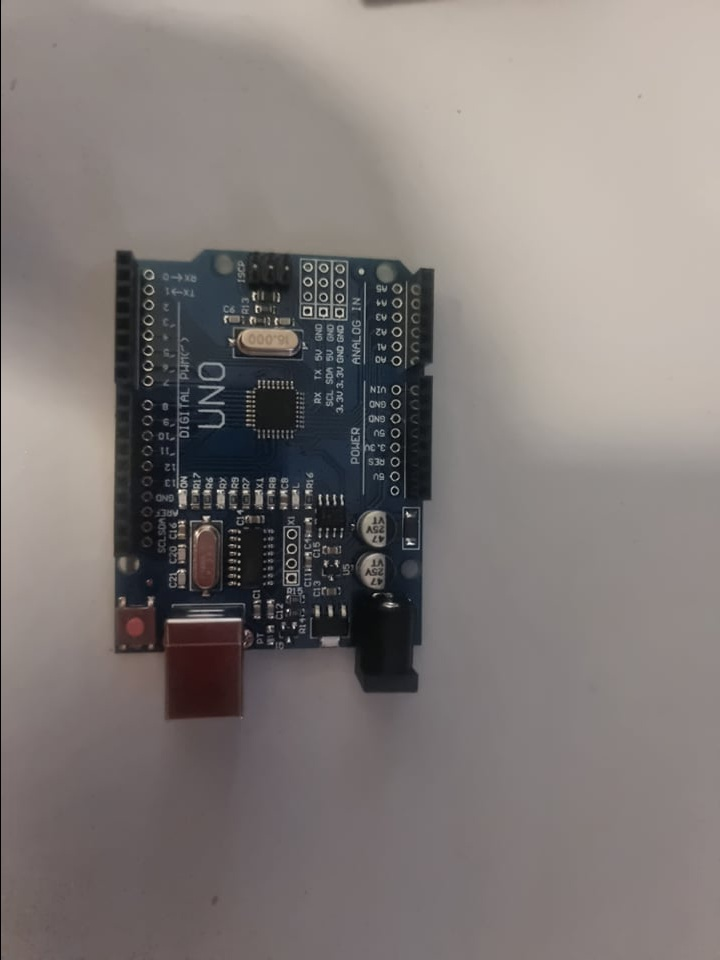UNO R3: (104, 235, 442, 725)
